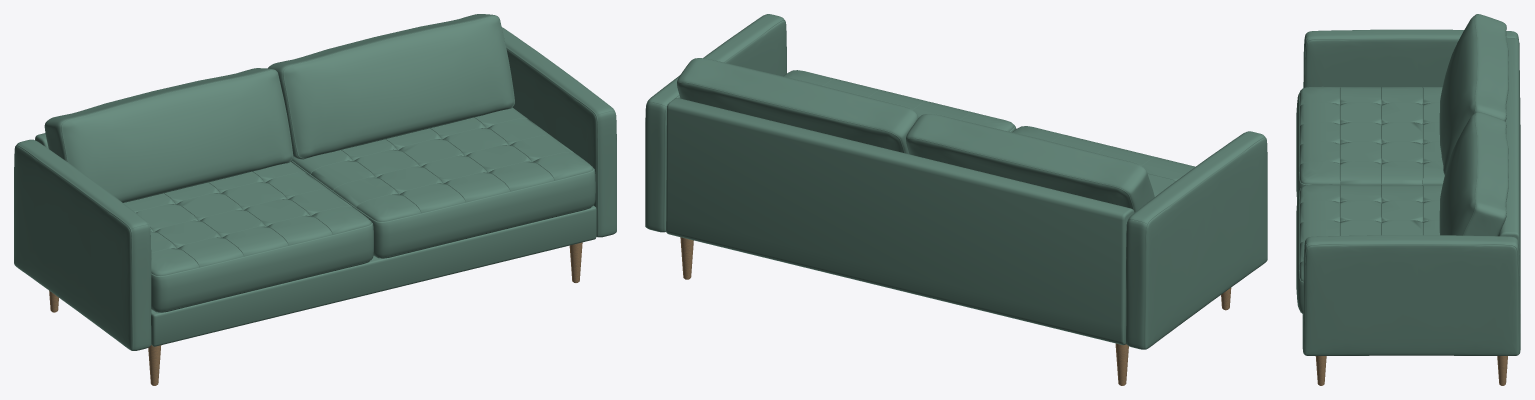
File: sofa_2.glb
The picture shows the model from 3 angles, left to right: view 1: azimuth 30°, elevation 25°; view 2: azimuth 150°, elevation 25°; view 3: azimuth 270°, elevation 25°; orthographic projection. The views are drawn at different scales.
Parts seen in each view (by area): view 1: root; view 2: root; view 3: root.
Boxes of the visible parts, x1,y1,x2,y2 form: root: (14,14,616,385); root: (645,14,1267,385); root: (1296,14,1520,385).
Size of the model in its own units: 2 by 0.8 by 0.88.
2 materials, 1 textured.
